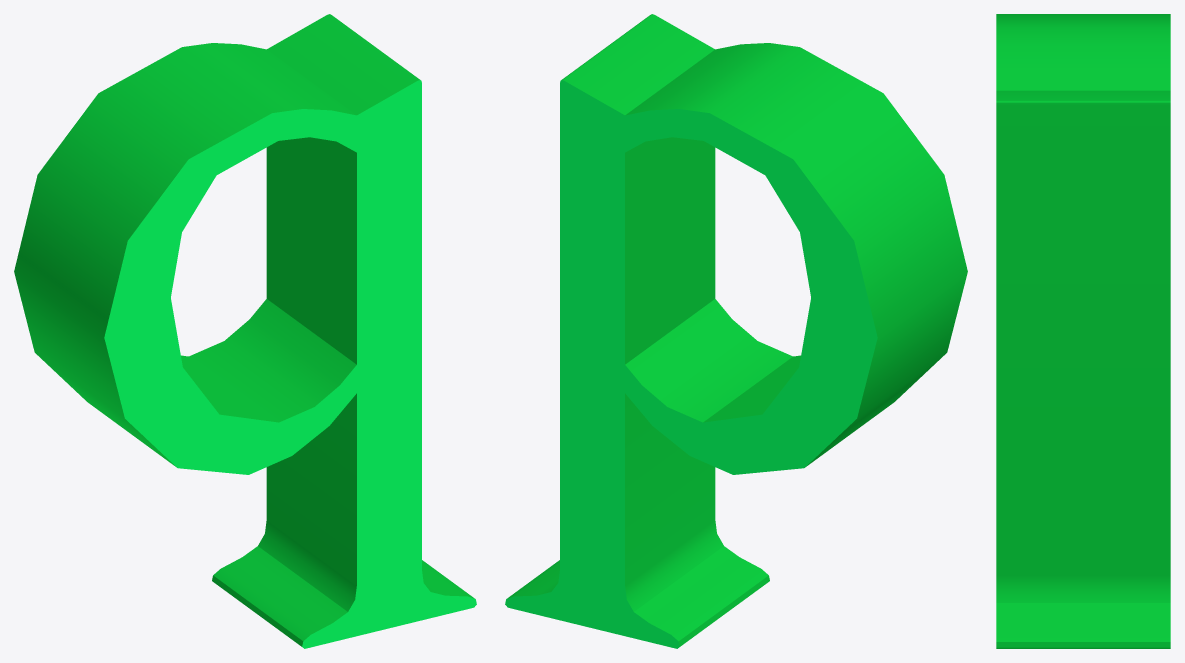
Rendered from Q_Soul_Green.glb.
The picture shows the model from 3 angles, left to right: view 1: azimuth 30°, elevation 25°; view 2: azimuth 150°, elevation 25°; view 3: azimuth 270°, elevation 25°; orthographic projection. The views are drawn at different scales.
Visible parts, largest first — view 1: q_Soul_Green; view 2: q_Soul_Green; view 3: q_Soul_Green.
Part boxes in pixels (<box>): q_Soul_Green: <box>14,14,476,648</box>; q_Soul_Green: <box>505,14,967,648</box>; q_Soul_Green: <box>996,14,1170,648</box>.
Size of what is drawn, in the model's own units: 0.1073 by 0.1496 by 0.045.
2 materials, 2 textured.
